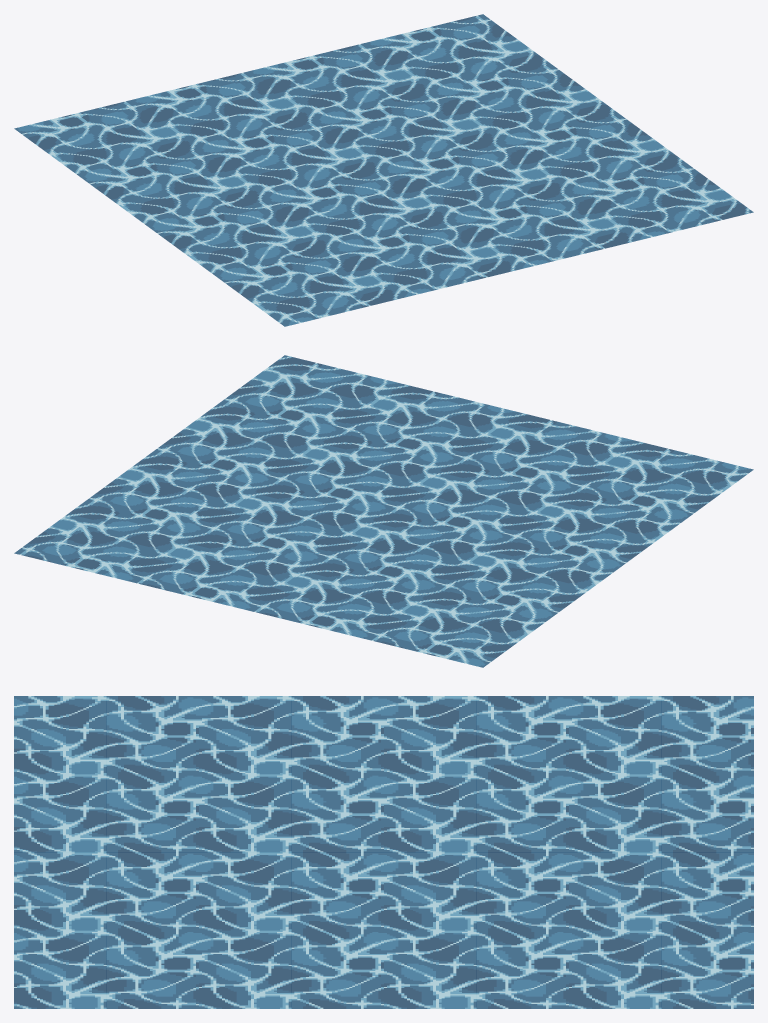
File: water.glb
The picture shows the model from 3 angles, top to bottom: view 1: azimuth 30°, elevation 25°; view 2: azimuth 150°, elevation 25°; view 3: azimuth 270°, elevation 25°; orthographic projection. The views are drawn at different scales.
Parts seen in each view (by area): view 1: water; view 2: water; view 3: water.
Boxes of the visible parts, bbox=[...] form: water: bbox=[14, 14, 753, 326]; water: bbox=[14, 355, 753, 667]; water: bbox=[14, 696, 753, 1008].
Bounding box in the file's own units: 16 × 0 × 16.
1 material, 1 textured.
